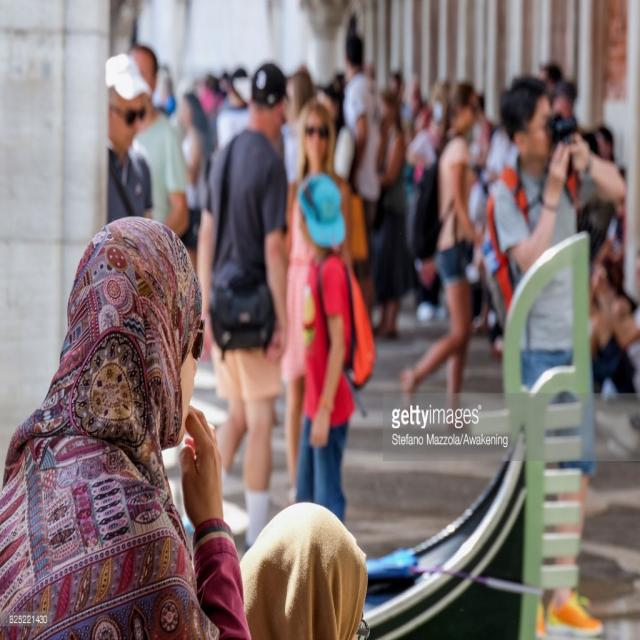body: (0, 210, 252, 640), (492, 71, 627, 640), (191, 58, 291, 562), (385, 64, 507, 376), (397, 77, 487, 443), (278, 99, 356, 502), (294, 172, 357, 528), (575, 38, 628, 286), (126, 43, 191, 240), (343, 30, 385, 333), (152, 42, 252, 158), (369, 89, 410, 347), (590, 242, 640, 434), (105, 51, 156, 224), (279, 61, 344, 185), (588, 262, 638, 394), (177, 93, 212, 276), (536, 59, 580, 117), (368, 215, 384, 368), (412, 82, 457, 134)
